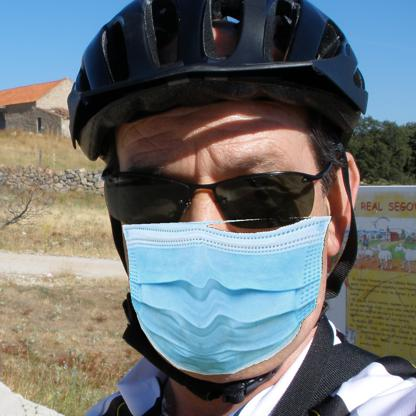mask: (119, 216, 329, 377)
